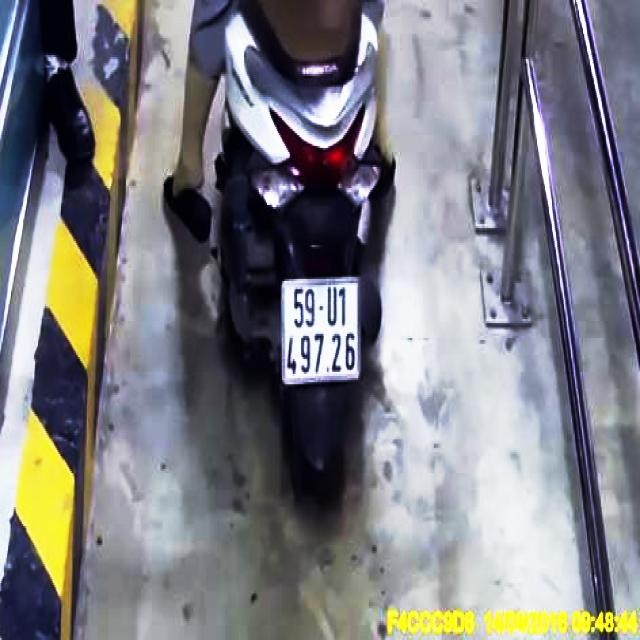license_plate: (283, 282, 362, 382)
